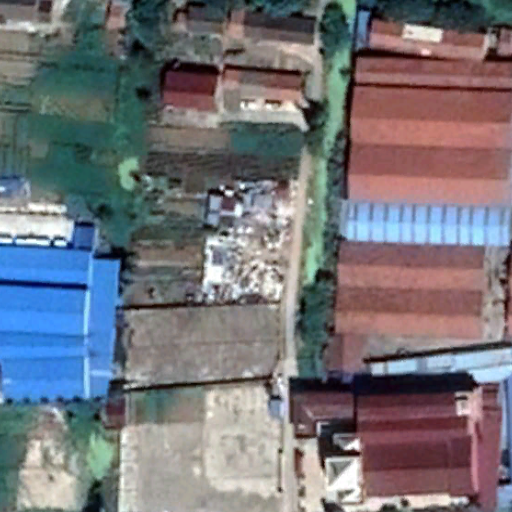msw: (201, 197, 288, 301)
